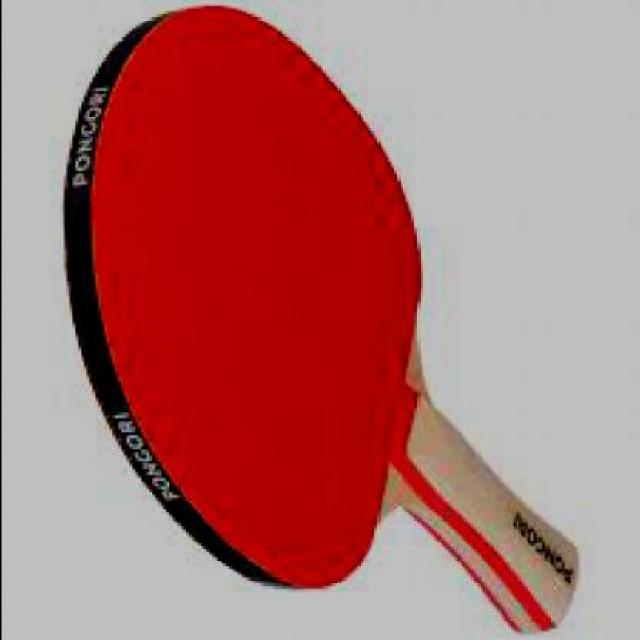table_tennis_racket: (61, 0, 432, 598)
